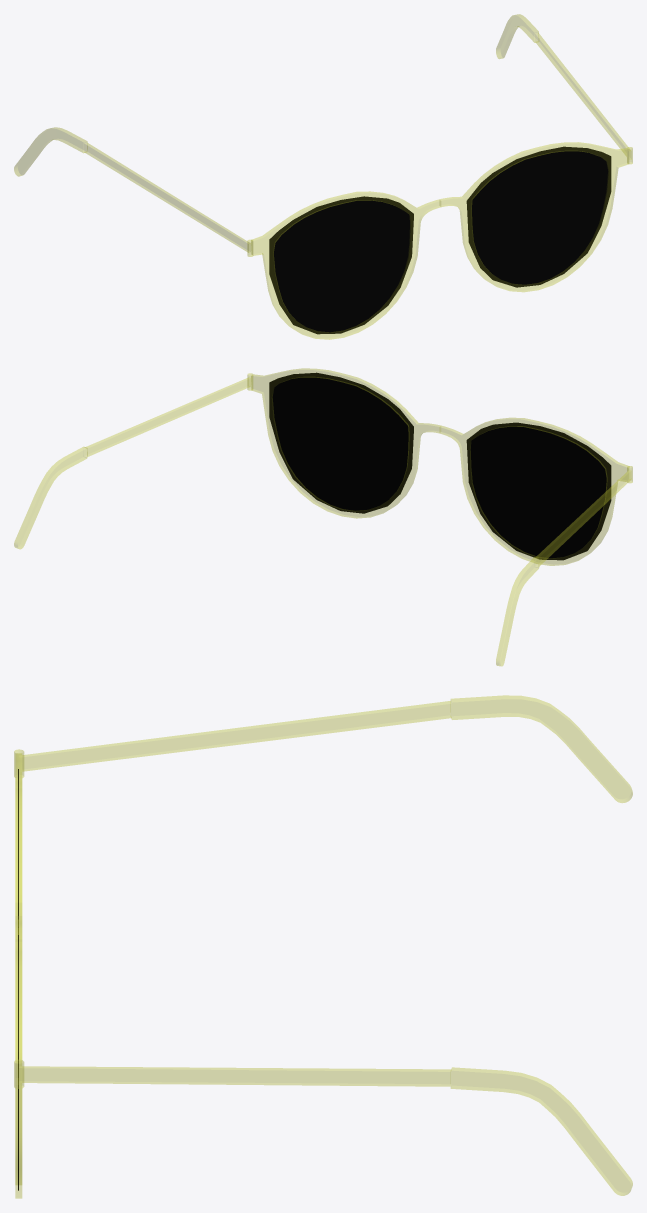
Rendered from glasses1.001.fbx.
3 renders of one model, top to bottom at view 1: azimuth 30°, elevation 25°; view 2: azimuth 150°, elevation 25°; view 3: azimuth 270°, elevation 25°, orthographic. The views are drawn at different scales.
Visible parts, largest first — view 1: glasses1.001; view 2: glasses1.001; view 3: glasses1.001.
Boxes of the visible parts, x1,y1,x2,y2 form: glasses1.001: [14, 14, 632, 339]; glasses1.001: [14, 368, 632, 666]; glasses1.001: [14, 695, 632, 1198].
Size of the model in its own units: 2.2 by 0.6109 by 1.45.
